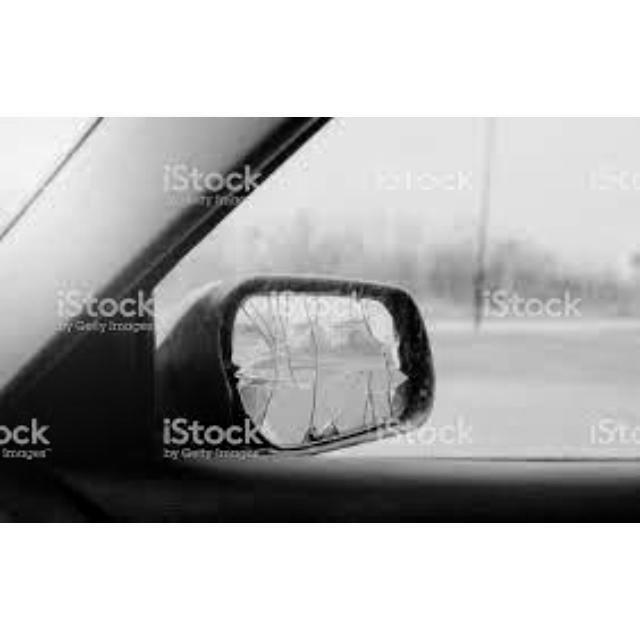Sidemirror-Damage: (189, 268, 449, 465)
